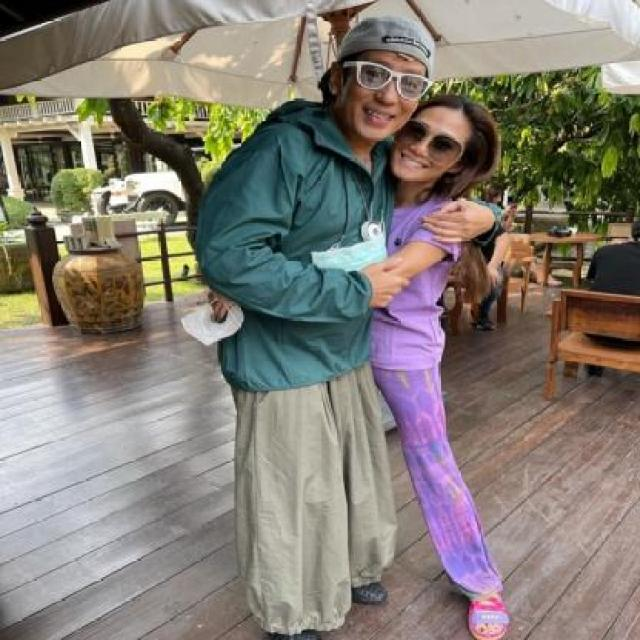sem_oculos: (332, 52, 440, 98), (401, 116, 486, 161)
